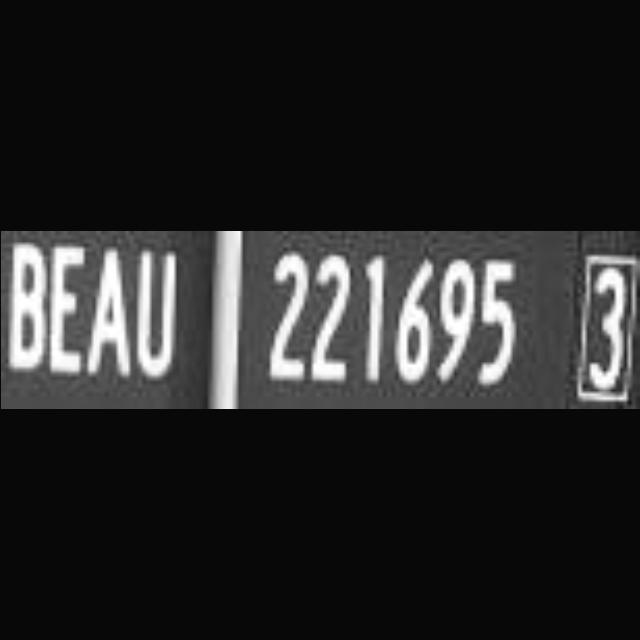1: (360, 246, 386, 390)
2: (312, 246, 354, 388), (267, 246, 309, 382)
3: (587, 260, 629, 394)
5: (477, 254, 518, 388)
6: (396, 254, 432, 388)
9: (435, 254, 477, 386)
a: (84, 244, 134, 386)
b: (8, 236, 48, 380)
e: (47, 240, 81, 382)
u: (136, 246, 176, 384)
